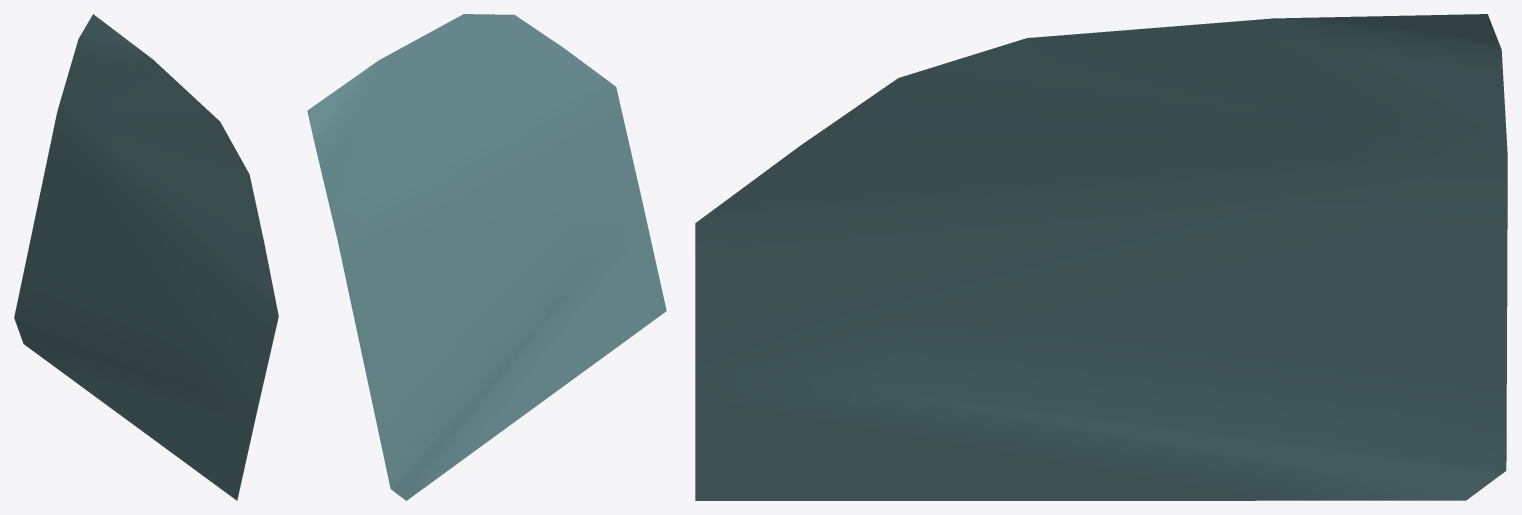
Rendered from VAN_1_Window_FR_Tessellate.fbx.
3 renders of one model, left to right at view 1: azimuth 30°, elevation 25°; view 2: azimuth 150°, elevation 25°; view 3: azimuth 270°, elevation 25°, orthographic. The views are drawn at different scales.
Visible parts, largest first — view 1: VAN_1_Window_FR_Tessellate; view 2: VAN_1_Window_FR_Tessellate; view 3: VAN_1_Window_FR_Tessellate.
Boxes of the visible parts, x1,y1,x2,y2 form: VAN_1_Window_FR_Tessellate: (14, 14, 278, 500); VAN_1_Window_FR_Tessellate: (307, 14, 666, 500); VAN_1_Window_FR_Tessellate: (695, 14, 1507, 500).
Bounding box in the file's own units: 5.83 × 22.39 × 29.78.
